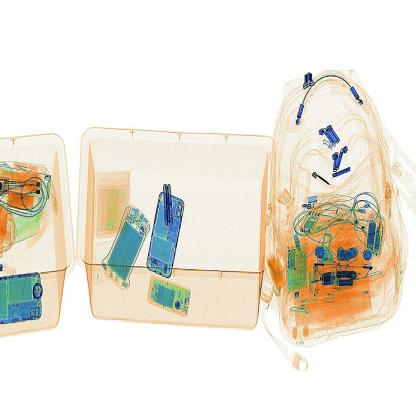scissors: (161, 179, 176, 229)
